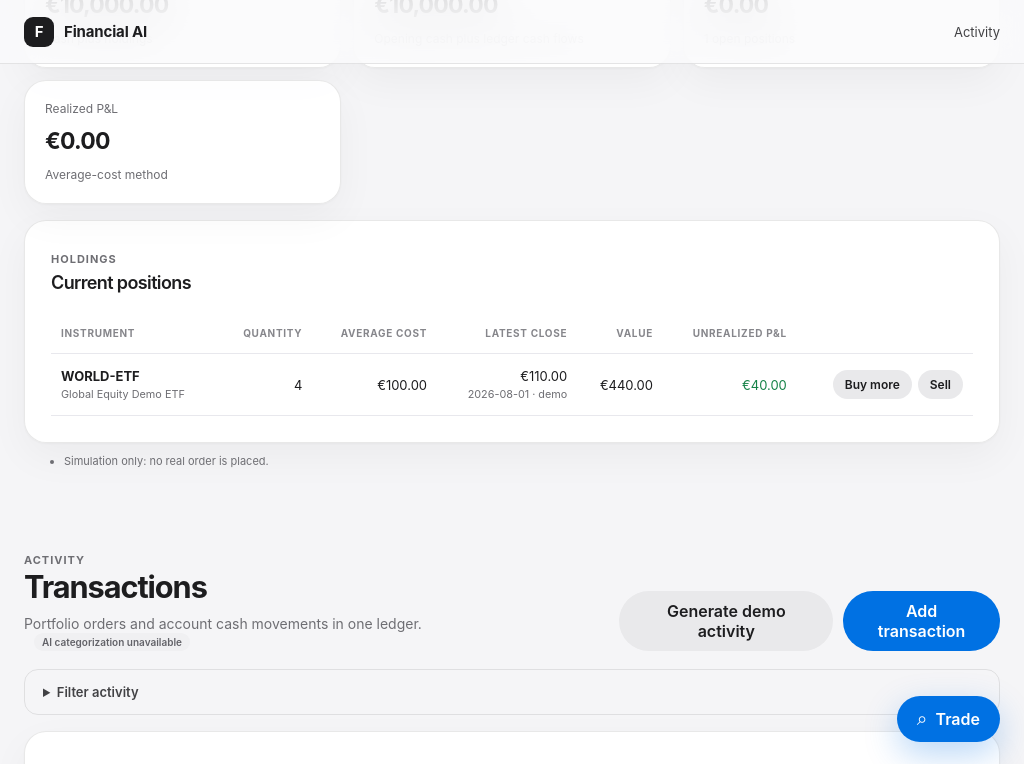
it: submits a portfolio order that updates the shared brokerage ledger
(page scrolled)
Click the button "Buy more": x=872, y=385 [833,370,912,399]
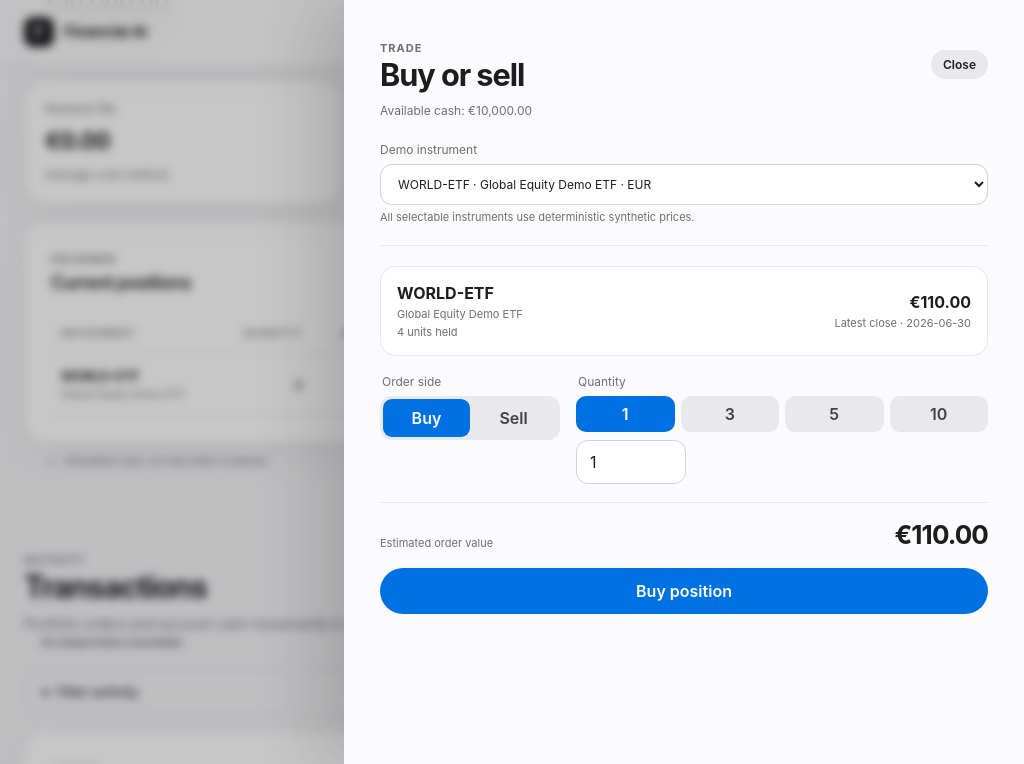
expect the dropdown labelled "Demo instrument" is shown: met, box [380,164,988,205]
expect the text "All selectable instruments use deterministic synthetic prices." is shown: met, box [380,210,694,224]
expect the number field named "Custom quantity" holds "1": met, box [576,440,686,484]
Click the button named "Set quantity to 3": x=730, y=414 [680,396,779,432]
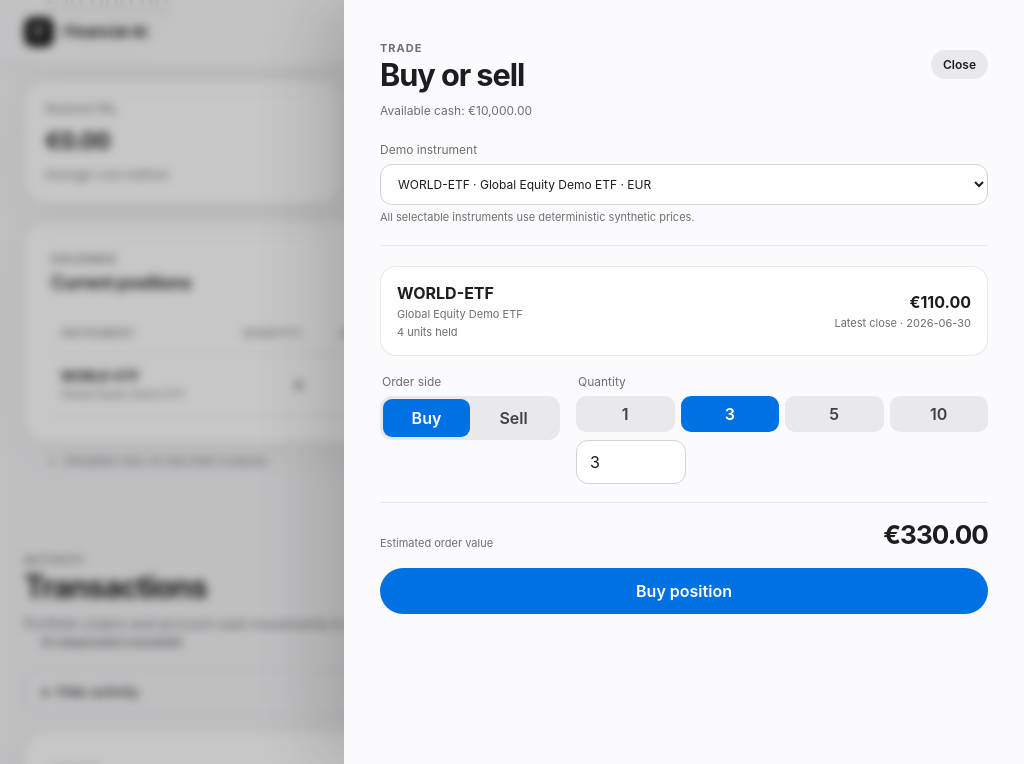
expect the number field named "Custom quantity" holds "3": met, box [576,440,686,484]
expect the text named "Estimated order value" reads "€330.00": met, box [883,519,988,550]
Click the button "Buy position": x=684, y=591 [380,568,988,614]
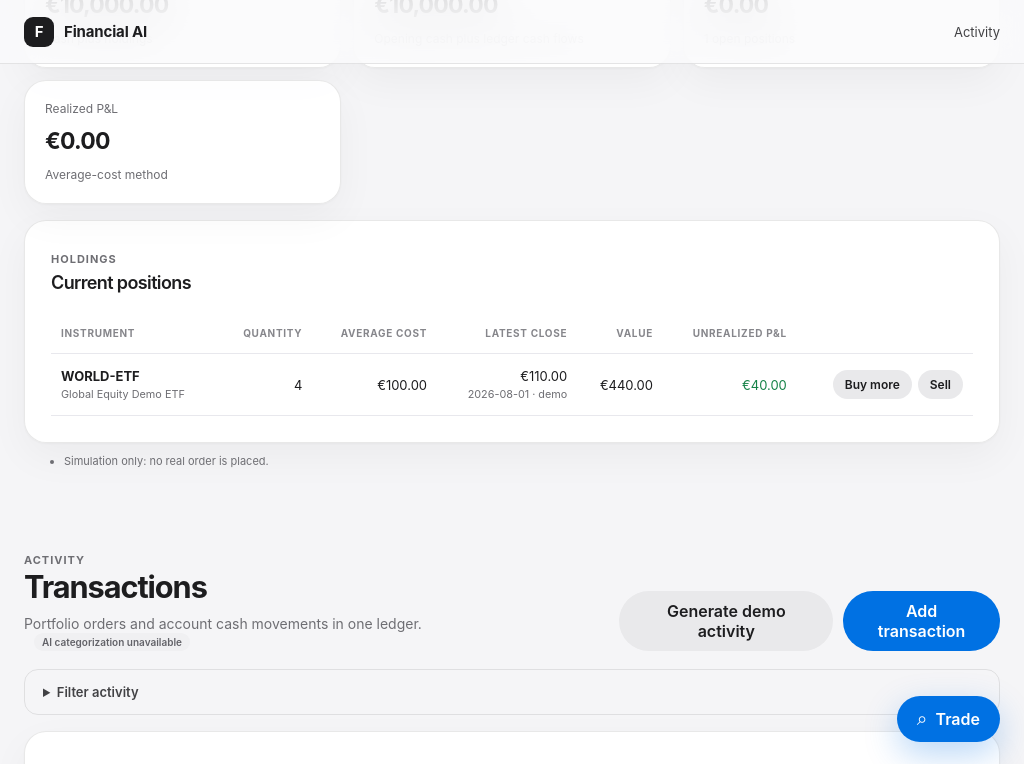
expect the button "Buy position" is gone: met
